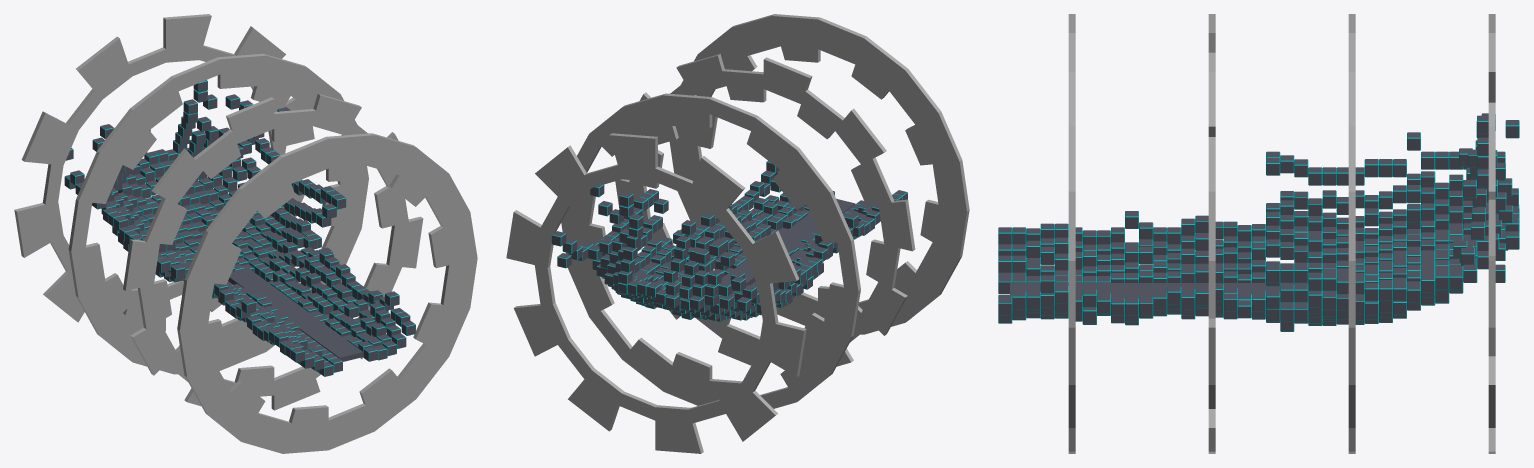
The model's file is stage08_beberubrock.fbx.
The picture shows the model from 3 angles, left to right: view 1: azimuth 30°, elevation 25°; view 2: azimuth 150°, elevation 25°; view 3: azimuth 270°, elevation 25°; orthographic projection. The views are drawn at different scales.
Visible parts, largest first — view 1: polySurface28, polySurface3768; view 2: polySurface28, polySurface3768; view 3: polySurface3768, polySurface28.
Part boxes in pixels (<box>): polySurface28: <box>14,14,477,453</box>; polySurface3768: <box>64,80,415,376</box>; polySurface28: <box>506,14,969,453</box>; polySurface3768: <box>551,161,907,321</box>; polySurface3768: <box>998,113,1519,331</box>; polySurface28: <box>1068,14,1495,453</box>.
Bounding box in the file's own units: 3147 × 3147 × 3702.
